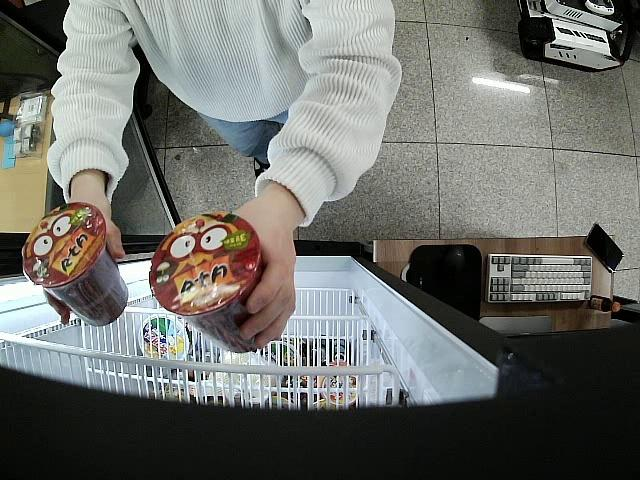00_hand: (43, 199, 126, 325), (230, 202, 295, 349)
06_nuguri_S: (149, 212, 265, 352), (21, 203, 128, 325)
